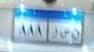8: (36, 24, 43, 39), (18, 24, 26, 37), (27, 24, 34, 38)
laam: (50, 25, 59, 40)
noon: (71, 27, 80, 42)
seen: (60, 28, 70, 40)
